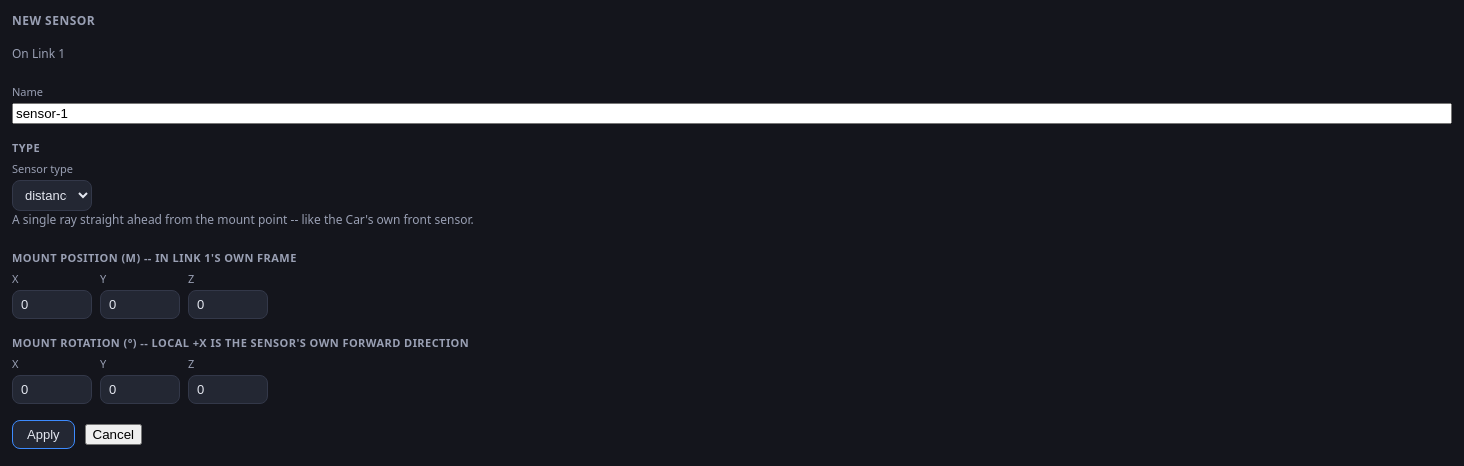
SensorCreator › Apply is disabled for encoder until a joint is chosen (sensor-encoder-missing-joint)
The image size is (1464, 466).
Step 1. Select "encoder" in the dropdown labelled "Sensor type" → point(52, 196), box [12, 180, 92, 211]
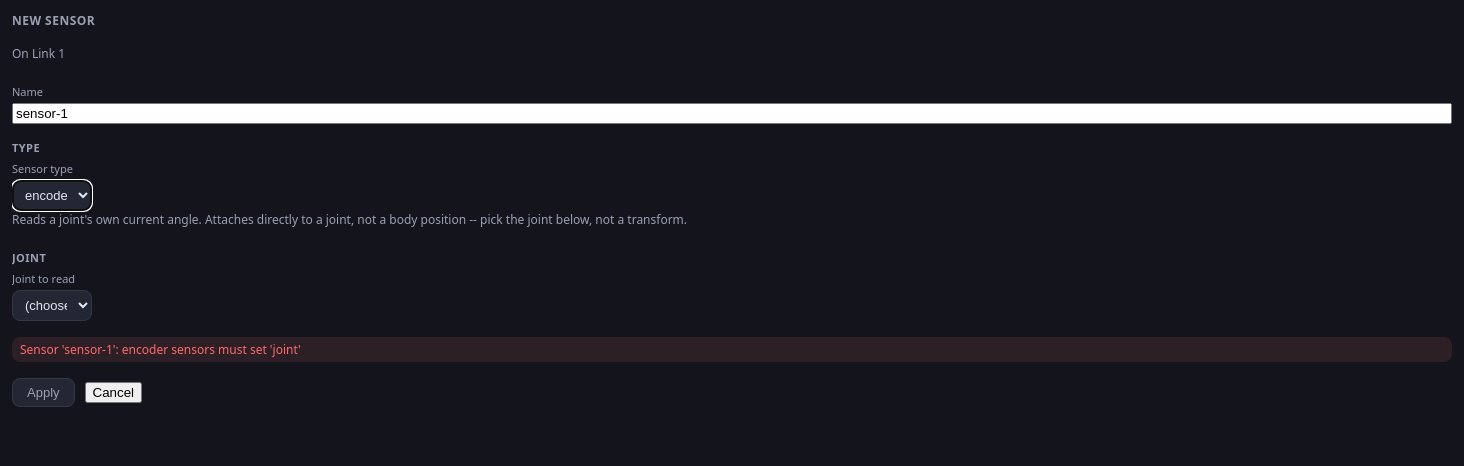
Check: the button "Apply" is disabled, box [12, 378, 74, 407]
Step 2. Select "Joint 1 (hinge)" in the dropdown named "sensor joint" → point(52, 306), box [12, 290, 92, 321]
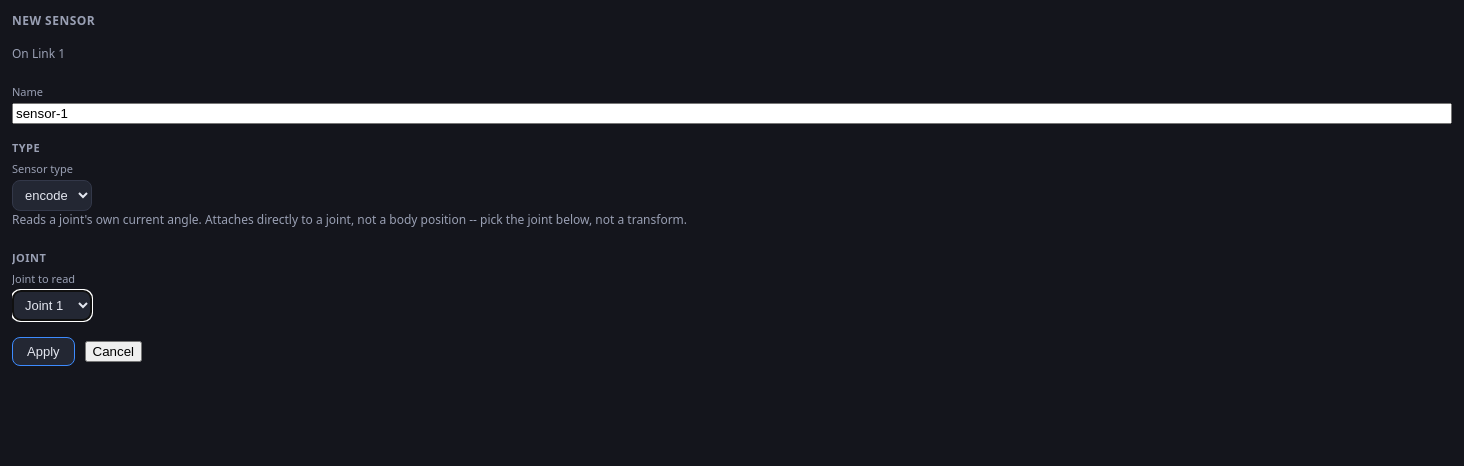
Check: the button "Apply" is enabled, box [12, 337, 74, 366]
